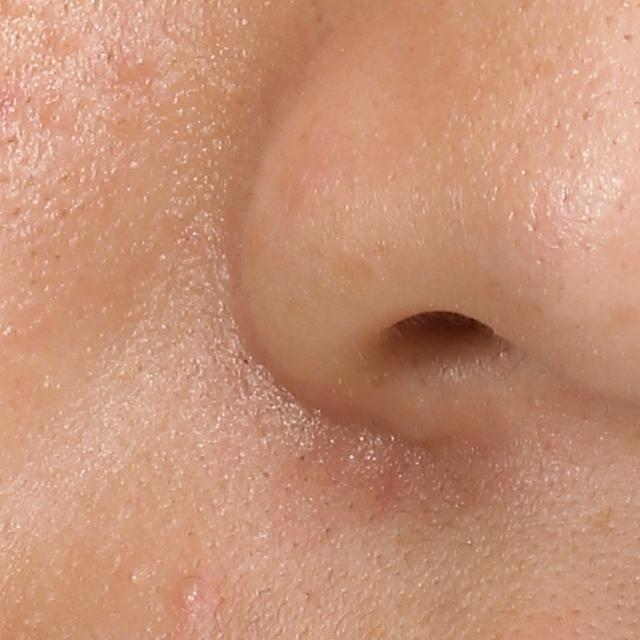comedo: (127, 571, 140, 587)
papule: (178, 583, 208, 608)
